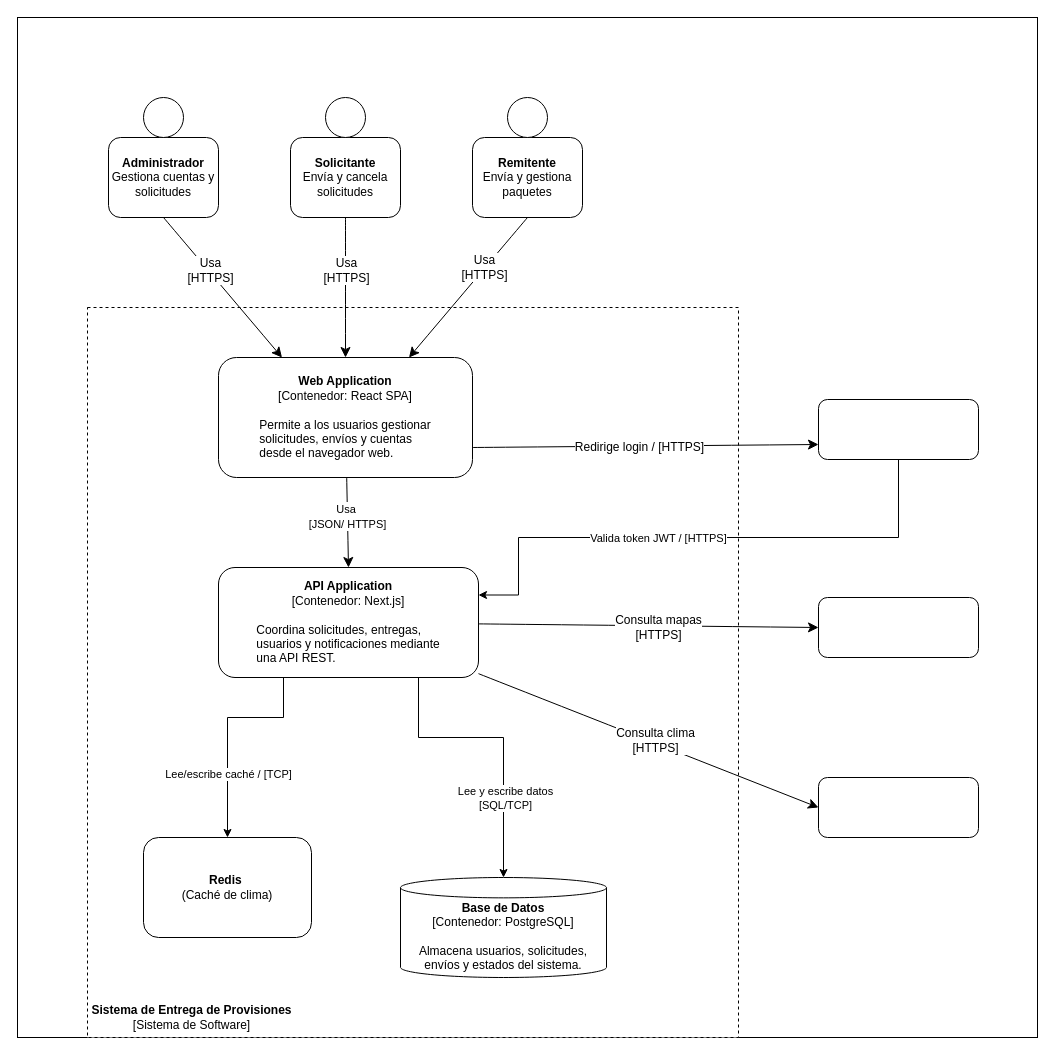
Image size: 1055x1064. Some labels were removed from this diagram. The shapes that lost their labels are listed below. From the top down, each one's centre as x and y in pixels, then its label:
At pixel 898 429: "Clerk [Sistema Externo]".
At pixel 898 627: "API Maps [Sistema Externo]".
At pixel 898 807: "API Clima [Sistema Externo]".
